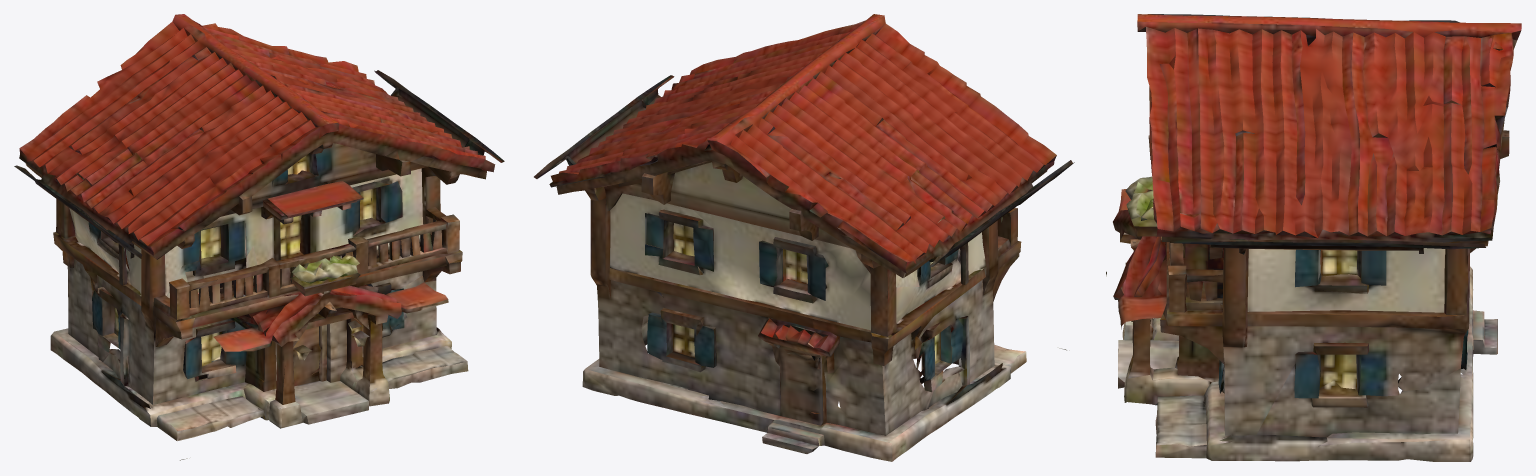
3 renders of one model, left to right at view 1: azimuth 30°, elevation 25°; view 2: azimuth 150°, elevation 25°; view 3: azimuth 270°, elevation 25°, orthographic. The views are drawn at different scales.
Parts seen in each view (by area): view 1: alpine__hotel_2__neural_lod; view 2: alpine__hotel_2__neural_lod; view 3: alpine__hotel_2__neural_lod.
Boxes of the visible parts, left/top/right/bottom form: alpine__hotel_2__neural_lod: left=14, top=14, right=504, bottom=460; alpine__hotel_2__neural_lod: left=534, top=14, right=1074, bottom=461; alpine__hotel_2__neural_lod: left=1106, top=14, right=1521, bottom=461.
Bounding box in the file's own units: 0.9991 × 0.7377 × 0.7772.
Materials: 1 (1 with a texture image).
